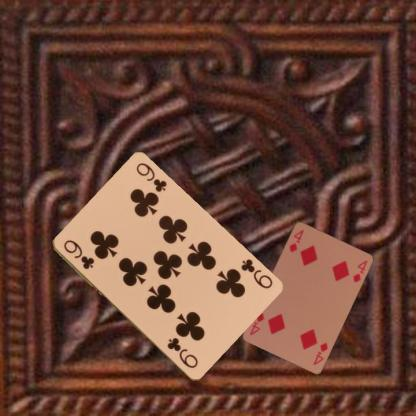4d: (287, 227, 305, 254), (311, 340, 329, 366)
9c: (238, 256, 274, 290), (60, 237, 95, 271)
